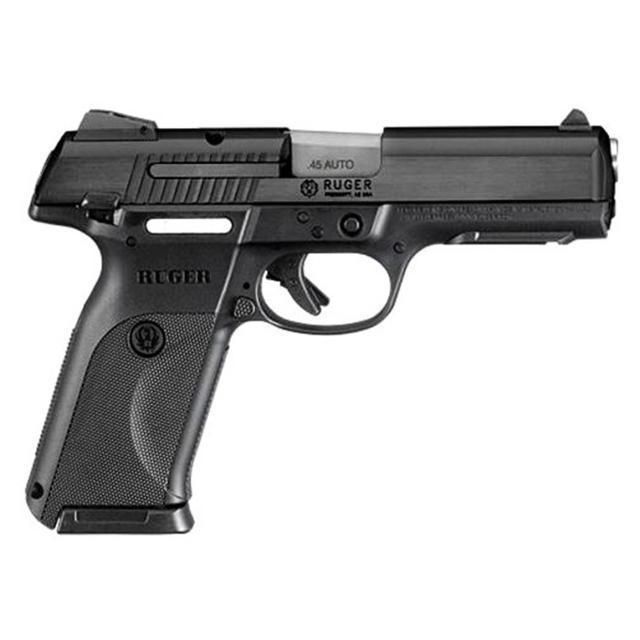Pistol: (19, 93, 637, 600)
